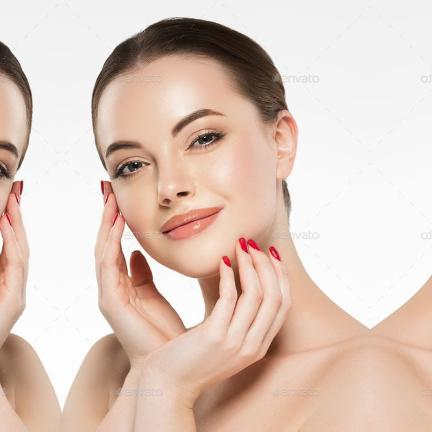Nail: (268, 246, 280, 261), (246, 239, 259, 251), (238, 237, 247, 253), (111, 211, 118, 227), (4, 211, 11, 227), (221, 256, 230, 267), (99, 180, 103, 196), (19, 180, 23, 196), (104, 193, 108, 206), (14, 193, 18, 206)
